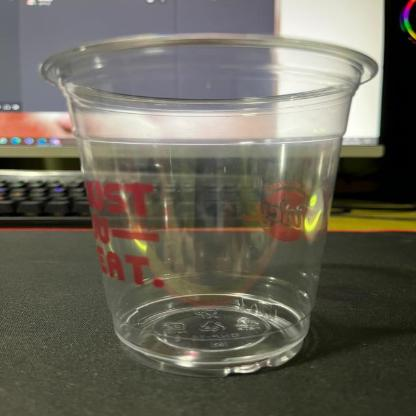Plastic Cup: (40, 34, 384, 378)
